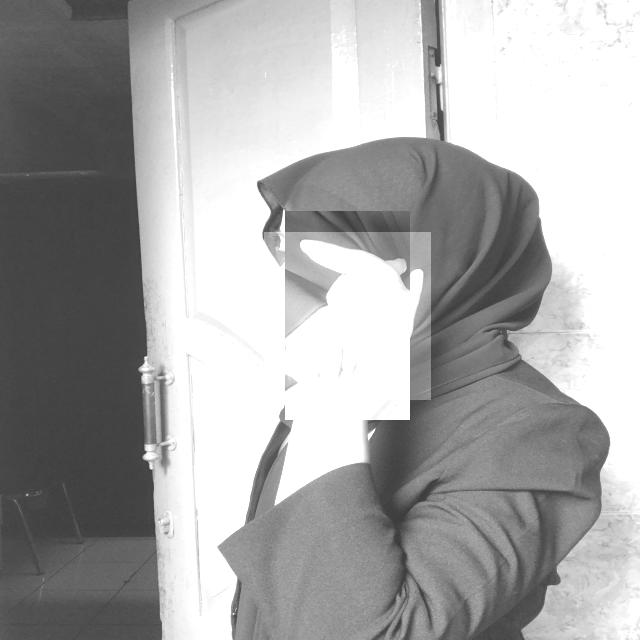telpon: (264, 232, 431, 400)
